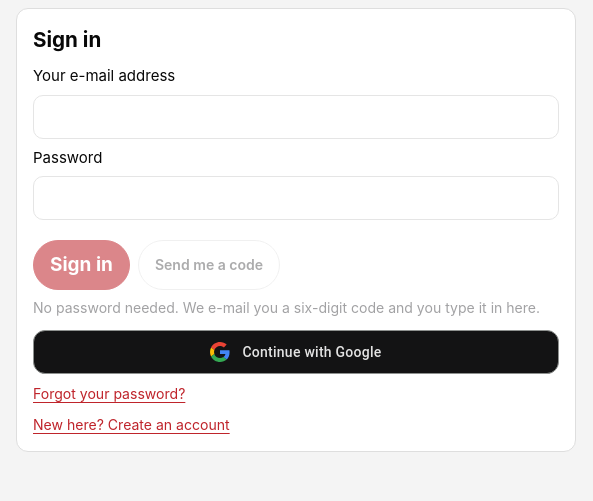
Test: 32.16 §2.0 — sign in › e-mail + password → accountSignIn → the session; a wrong password says auth.password_wrong; a locked account says auth.account_locked; no session either way
Later steps or results of the test are not shown.
In the field labelled "Your e-mail address": (296,117) left=33, top=95, right=559, bottom=139, type "Maya@Example.com"
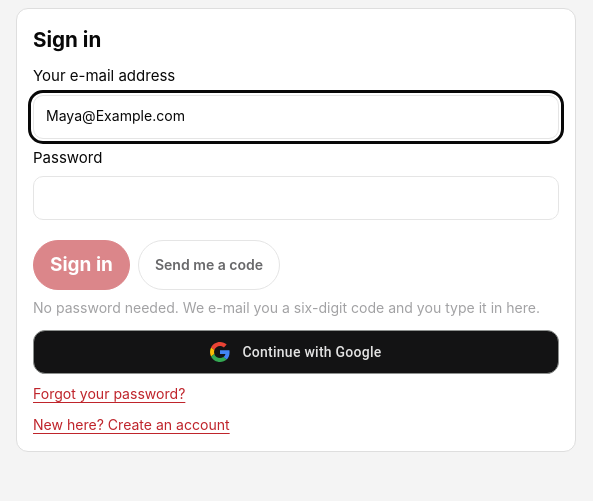
In the password field labelled "Password": (296,198) left=33, top=176, right=559, bottom=220, type "nope"
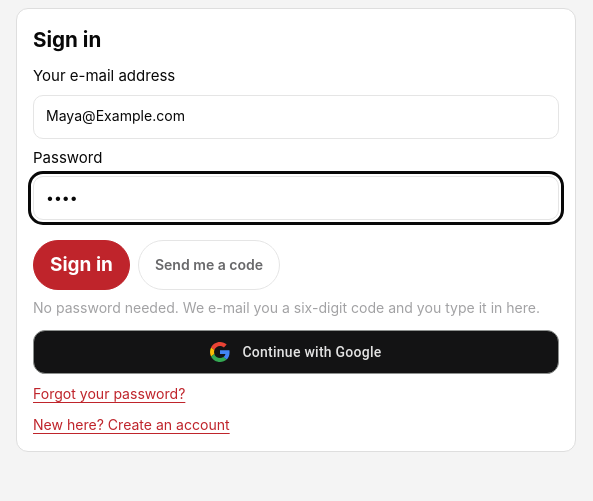
Click the button "Sign in": (81,265) left=33, top=240, right=130, bottom=290
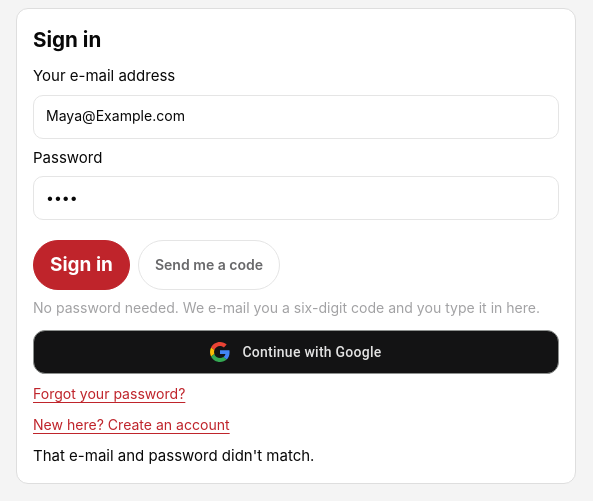
Expected: the message reads "That e-mail and password didn't match.", left=33, top=446, right=314, bottom=465
Click the button "Sign in": (81,265) left=33, top=240, right=130, bottom=290
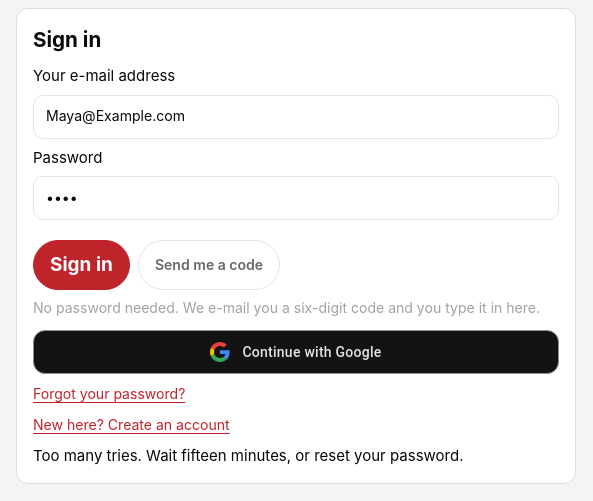
Expected: the message reads "Too many tries. Wait fifteen minutes, or reset your password.", left=33, top=446, right=464, bottom=465
